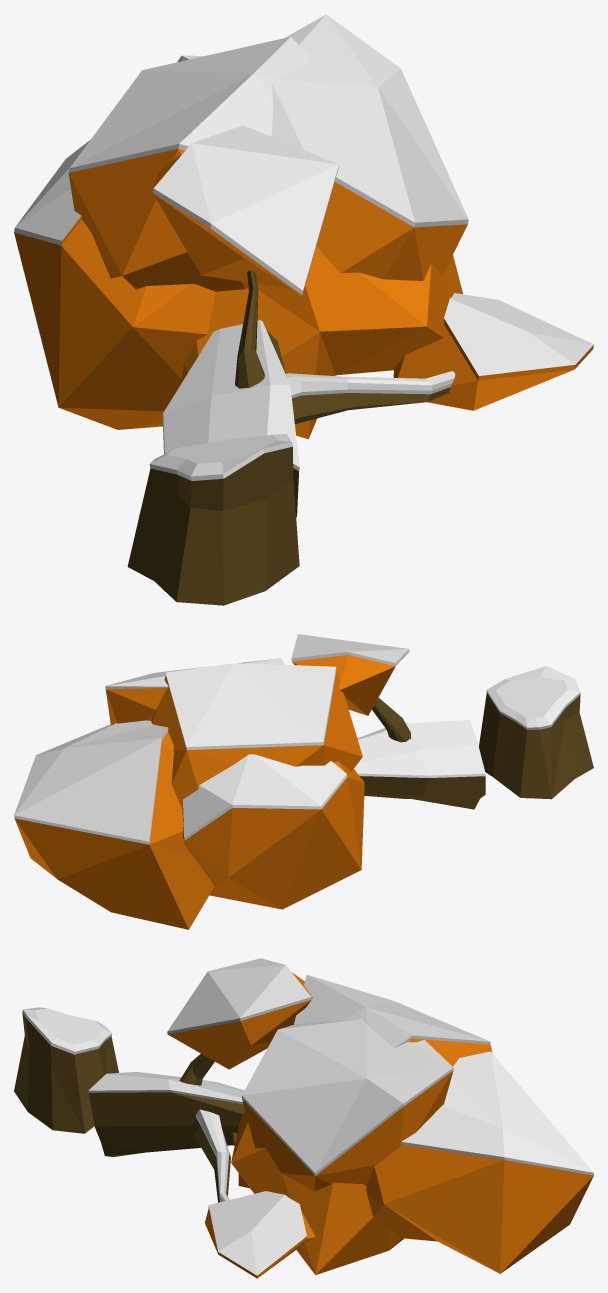
The model's file is Tree#11_Snow.fbx.
3 renders of one model, top to bottom at view 1: azimuth 30°, elevation 25°; view 2: azimuth 150°, elevation 25°; view 3: azimuth 270°, elevation 25°, orthographic. The views are drawn at different scales.
Parts seen in each view (by area): view 1: Tree#11_Snow; view 2: Tree#11_Snow; view 3: Tree#11_Snow.
Boxes of the visible parts, x1,y1,x2,y2 form: Tree#11_Snow: [14, 14, 593, 605]; Tree#11_Snow: [14, 634, 593, 929]; Tree#11_Snow: [14, 958, 593, 1278].
Bounding box in the file's own units: 1726 × 972 × 2219.
